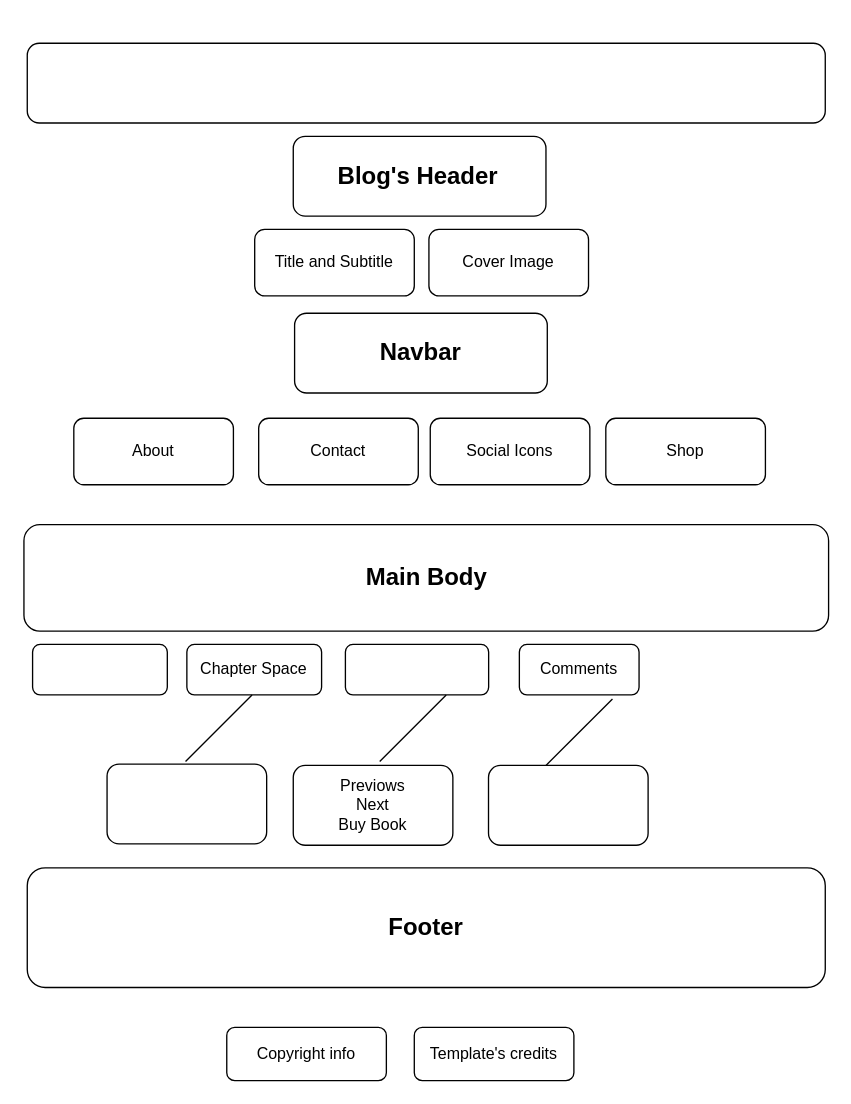
Some shapes in this 851 by 1104 pixel diagram are drawn without their labels. The shapes that lost their labels are listed below. From the top down, each one's centre as x and y in pixels, then its label:
At (x=425, y=82): "Webnovel Blog Template".
At (x=99, y=669): "Collapsable chapter list".
At (x=416, y=669): "Buttons".
At (x=186, y=803): "Chapter Title Paragrapghs Illustration".
At (x=567, y=804): "Comments Form Comments Section (Possible Hivor talk plugin)".
